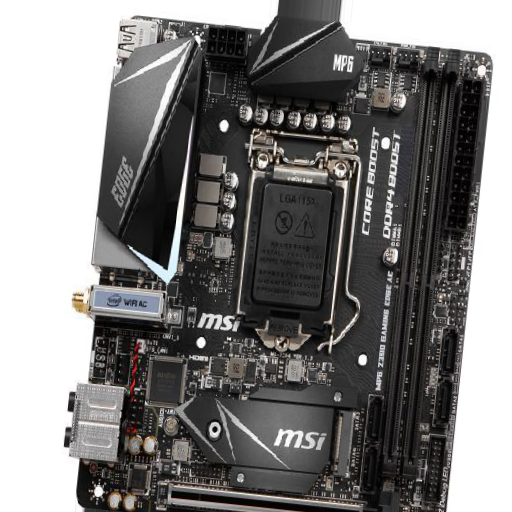CPU: (239, 153, 343, 353)
GPU: (159, 482, 399, 512)
MOTHERBOARD: (56, 8, 499, 512)
RAM: (381, 40, 463, 485)
